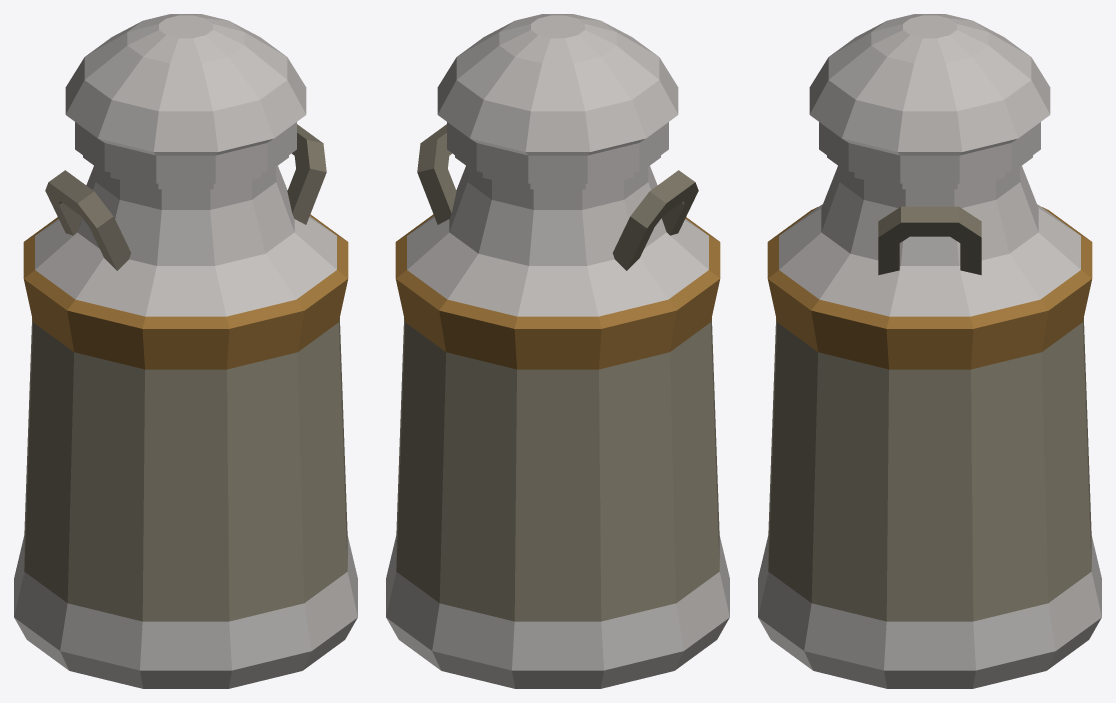
File: milk-churn-895735.glb
The picture shows the model from 3 angles, left to right: view 1: azimuth 30°, elevation 25°; view 2: azimuth 150°, elevation 25°; view 3: azimuth 270°, elevation 25°; orthographic projection.
Parts seen in each view (by area): view 1: milk-churn, lid; view 2: milk-churn, lid; view 3: milk-churn, lid.
Boxes of the visible parts, x1,y1,x2,y2 form: milk-churn: (14,124,357,688); lid: (65,14,306,183); milk-churn: (386,124,729,688); lid: (437,14,678,183); milk-churn: (758,155,1101,688); lid: (809,14,1050,183).
Bounding box in the file's own units: 0.4192 × 0.8 × 0.4192.
